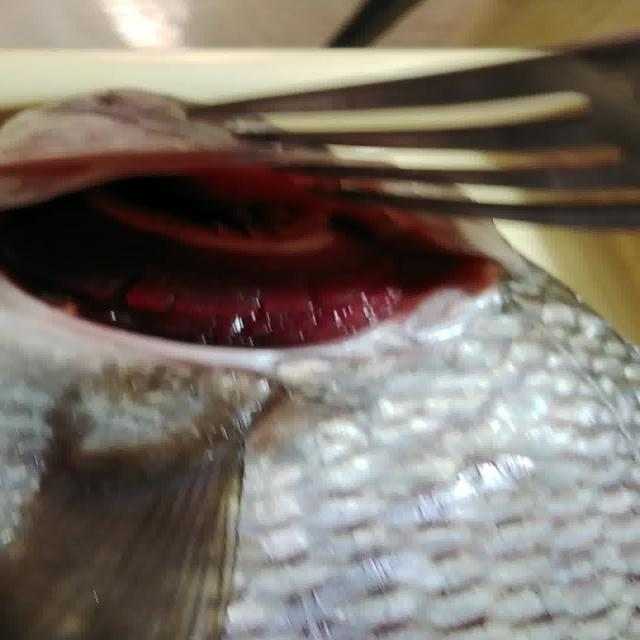Fresh: (93, 139, 462, 374)
